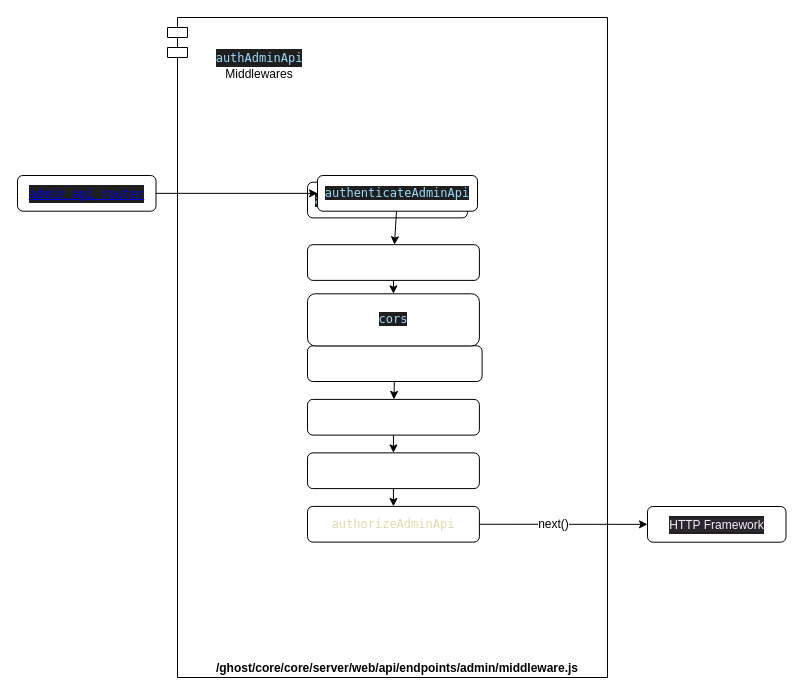
The diagram is 804 pixels wide and 695 high, and some of its shapes have lost their labels. The shapes that lost their labels are listed below. From the top down, each one's centre as x and y in pixels, then its label:
At point 392,262: "updateUserLastSeen".
At point 394,363: "adminSSLAndHostRedirect".
At point 392,416: "prettyUrls".
At point 392,470: "notImplemented".
